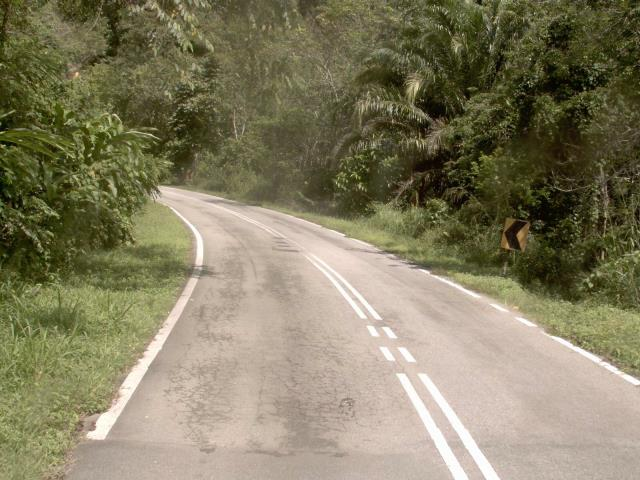traffic_sign: (495, 212, 534, 259)
